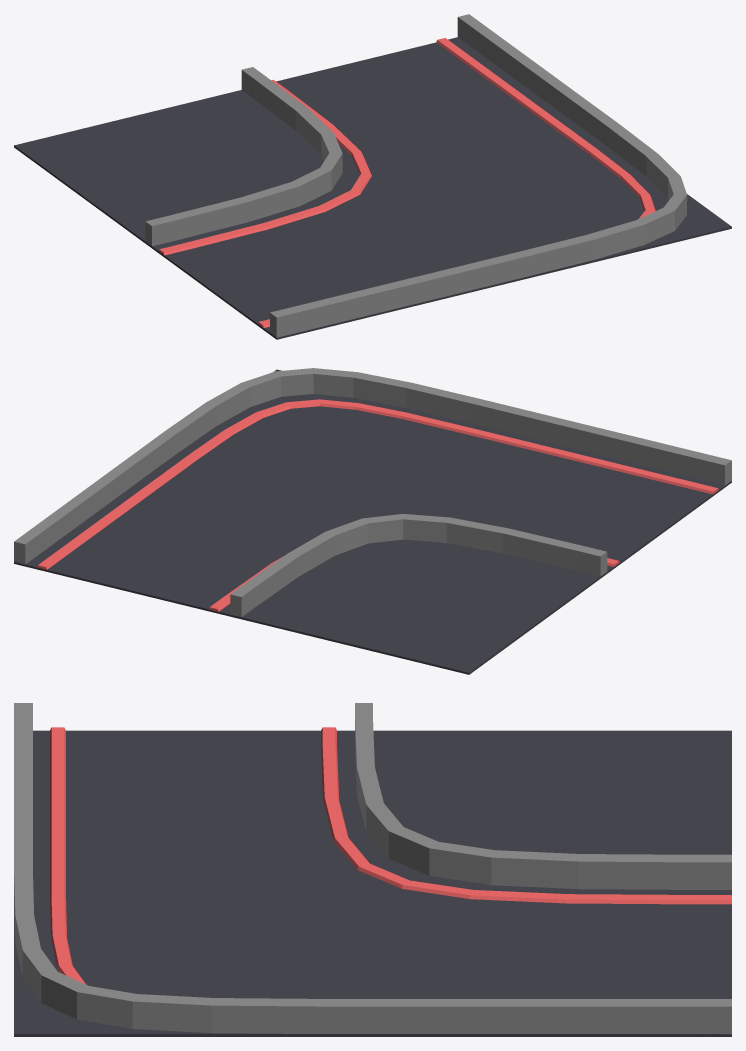
The model's file is kartkids_base_trk_090_trn_wide_r_2x2.glb.
3 renders of one model, top to bottom at view 1: azimuth 30°, elevation 25°; view 2: azimuth 150°, elevation 25°; view 3: azimuth 270°, elevation 25°, orthographic. The views are drawn at different scales.
Visible parts, largest first — view 1: kartkids_base_trk_010_rd_straight_1x1.011, kartkids_base_trk_020_trn_90_l_1x1.021, kartkids_base_trk_020_trn_90_l_1x1.022, kartkids_base_trk_020_trn_90_l_1x1.023; view 2: kartkids_base_trk_010_rd_straight_1x1.011, kartkids_base_trk_020_trn_90_l_1x1.021, kartkids_base_trk_020_trn_90_l_1x1.022; view 3: kartkids_base_trk_010_rd_straight_1x1.011, kartkids_base_trk_020_trn_90_l_1x1.021, kartkids_base_trk_020_trn_90_l_1x1.023, kartkids_base_trk_020_trn_90_l_1x1.022.
Part boxes in pixels (x1,y1,x2,y2): kartkids_base_trk_010_rd_straight_1x1.011: (14,37,731,339); kartkids_base_trk_020_trn_90_l_1x1.021: (145,14,687,337); kartkids_base_trk_020_trn_90_l_1x1.022: (258,38,655,327); kartkids_base_trk_020_trn_90_l_1x1.023: (158,79,371,255); kartkids_base_trk_010_rd_straight_1x1.011: (14,369,731,674); kartkids_base_trk_020_trn_90_l_1x1.021: (14,368,731,617); kartkids_base_trk_020_trn_90_l_1x1.022: (37,399,718,569); kartkids_base_trk_010_rd_straight_1x1.011: (14,730,731,1036); kartkids_base_trk_020_trn_90_l_1x1.021: (14,703,731,1034); kartkids_base_trk_020_trn_90_l_1x1.023: (321,727,731,904); kartkids_base_trk_020_trn_90_l_1x1.022: (50,727,87,985).
Bounding box in the file's own units: 20 × 0.9339 × 20.
